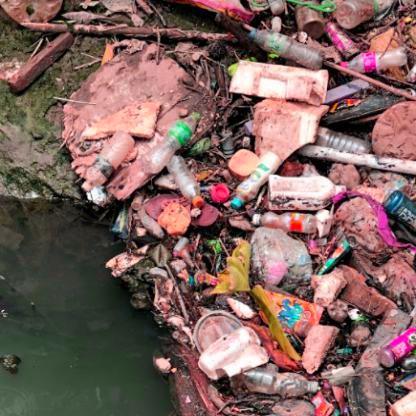Metal: (377, 328, 415, 371), (328, 18, 358, 62)
Plastic: (138, 107, 202, 176), (196, 323, 260, 384), (79, 127, 136, 194), (245, 26, 324, 70), (228, 149, 278, 211), (338, 43, 410, 76), (248, 208, 322, 235), (168, 156, 205, 208), (308, 126, 371, 156)
Trash: (247, 226, 318, 286), (259, 286, 315, 330), (300, 318, 340, 376)
